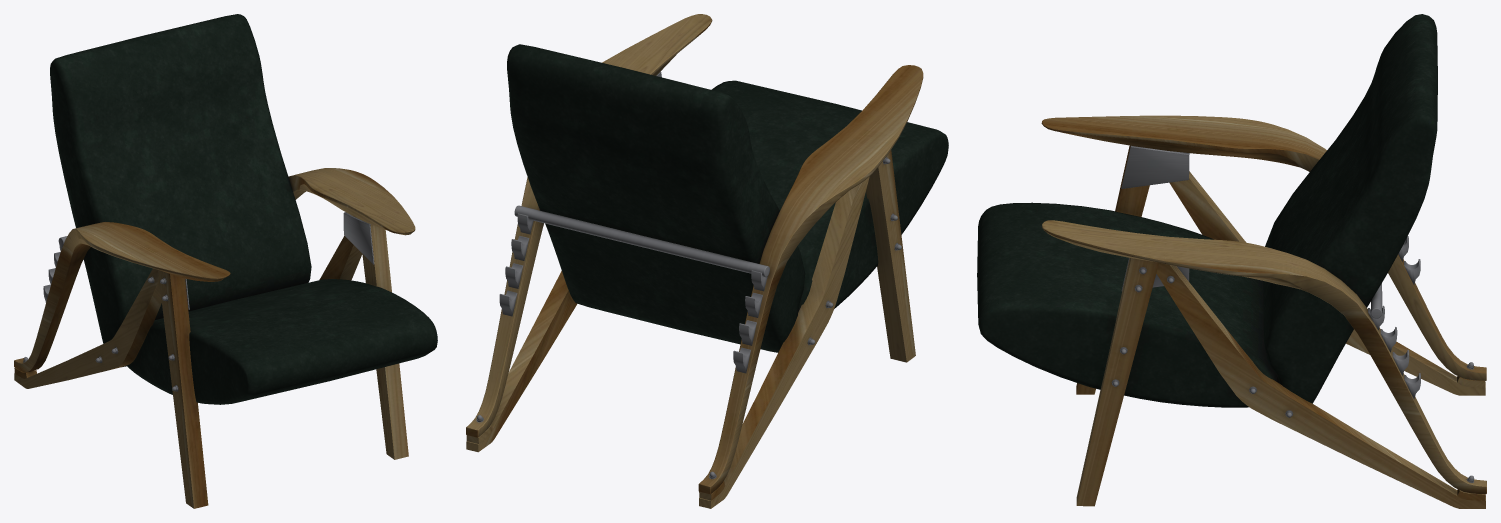
3 views of the same model, side by side, from view 1: azimuth 30°, elevation 25°; view 2: azimuth 150°, elevation 25°; view 3: azimuth 270°, elevation 25° (orthographic). The views are drawn at different scales.
Parts seen in each view (by area): view 1: Kreslo_low; view 2: Kreslo_low; view 3: Kreslo_low.
Part boxes in pixels (x1,y1,x2,y2): Kreslo_low: [14, 14, 437, 508]; Kreslo_low: [466, 14, 948, 508]; Kreslo_low: [977, 14, 1486, 508].
Size of the model in its own units: 1.42 by 1.67 by 2.
1 material, 1 textured.
